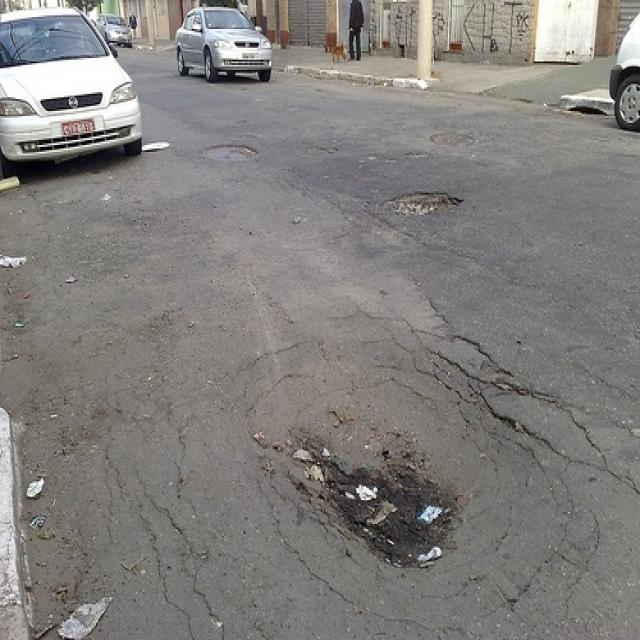pothole: (242, 403, 482, 593), (372, 178, 488, 226), (198, 140, 264, 187)
